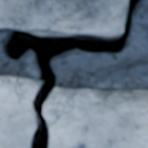brick: (0, 0, 127, 31)
broken_brick: (45, 86, 147, 147), (0, 75, 40, 147)
crack: (0, 0, 145, 147)
